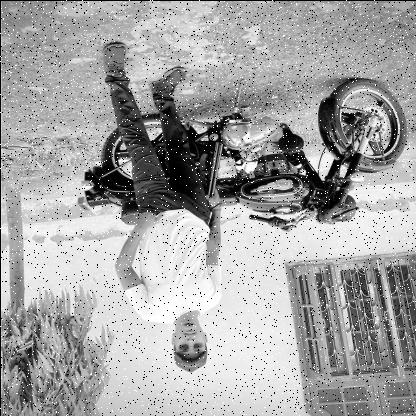rifle: (206, 140, 223, 216)
